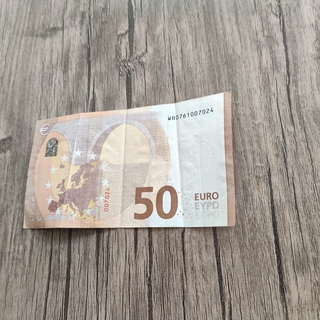50EUROBack: (20, 90, 237, 229)
